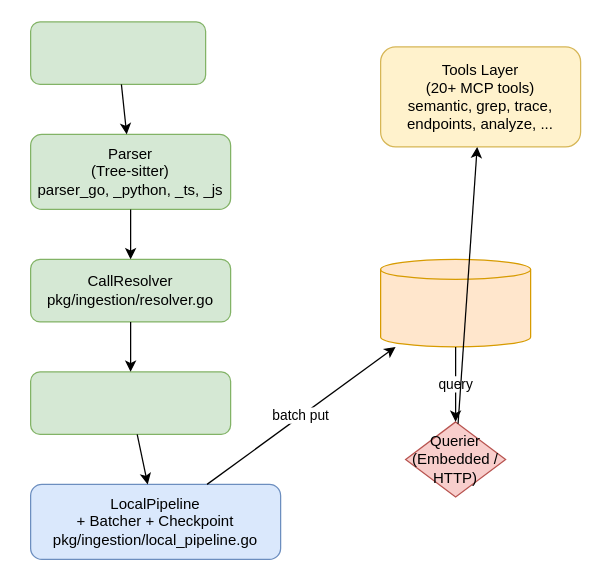
The diagram is 603 pixels wide and 581 high, and some of its shapes have lost their labels. The centre of each missing label's shape, as x and y in pixels:
"EmbeddingGenerator pkg/ingestion/embedding.go" belongs at pixel 130 402.
"RepoLoader pkg/ingestion/repo_loader.go" belongs at pixel 117 52.
"Storage / CozoDB pkg/storage, pkg/cozodb" belongs at pixel 455 302.
